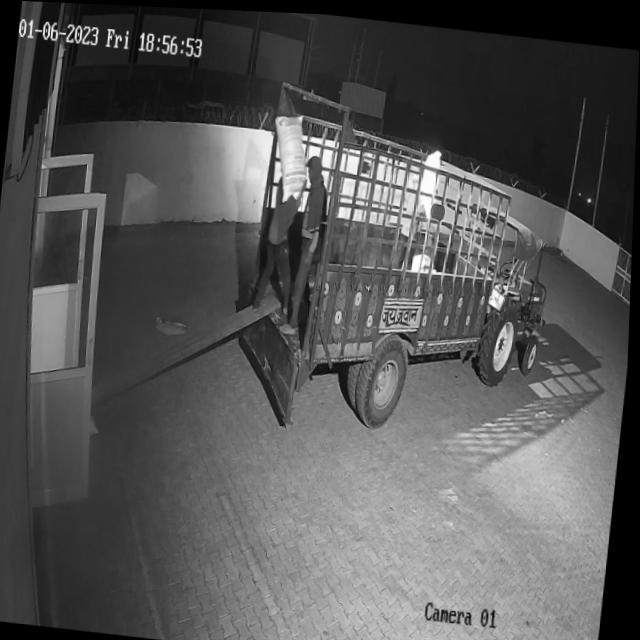sack: (267, 110, 314, 202)
